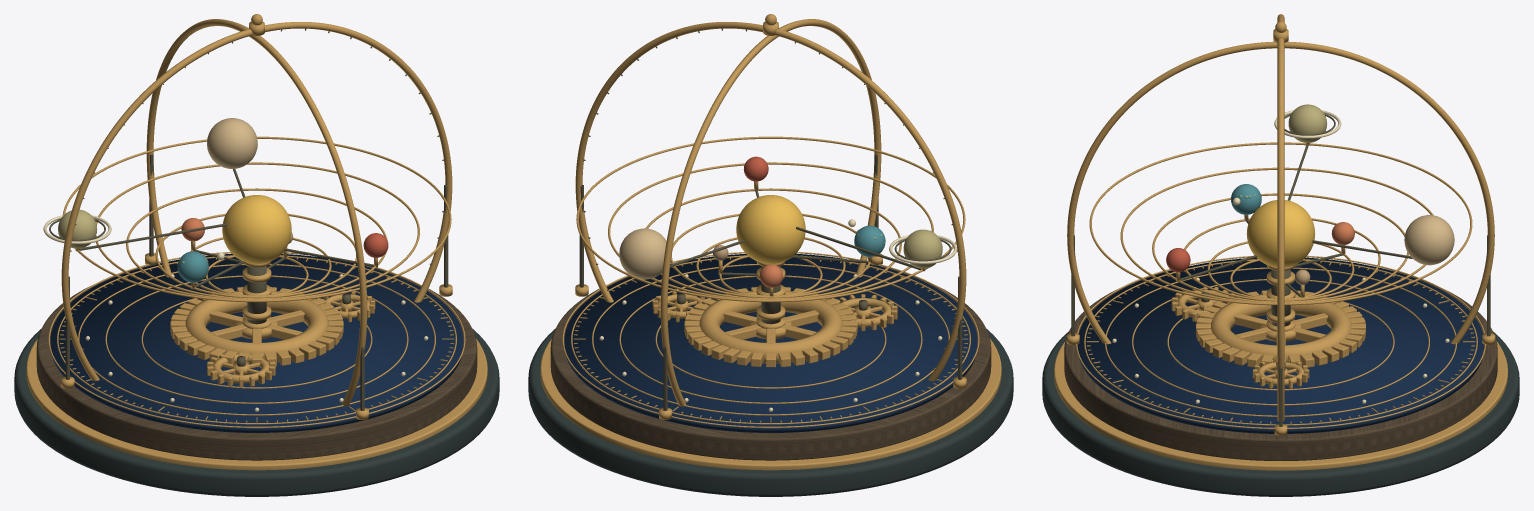
The picture shows the model from 3 angles, left to right: view 1: azimuth 30°, elevation 25°; view 2: azimuth 150°, elevation 25°; view 3: azimuth 270°, elevation 25°; orthographic projection.
Parts seen in each view (by area): view 1: runtime_Obsidian display plinth, runtime_Walnut instrument base; view 2: runtime_Obsidian display plinth, runtime_Walnut instrument base; view 3: runtime_Obsidian display plinth, runtime_Walnut instrument base.
Boxes of the visible parts, box(x1,y1,x2,y2) form: runtime_Obsidian display plinth: box(14, 14, 499, 496); runtime_Walnut instrument base: box(36, 263, 477, 460); runtime_Obsidian display plinth: box(528, 14, 1013, 496); runtime_Walnut instrument base: box(550, 265, 991, 460); runtime_Obsidian display plinth: box(1042, 14, 1519, 496); runtime_Walnut instrument base: box(1064, 266, 1497, 460).
Bounding box in the file's own units: 7.4 × 7.08 × 7.4.
14 materials, 1 textured.
